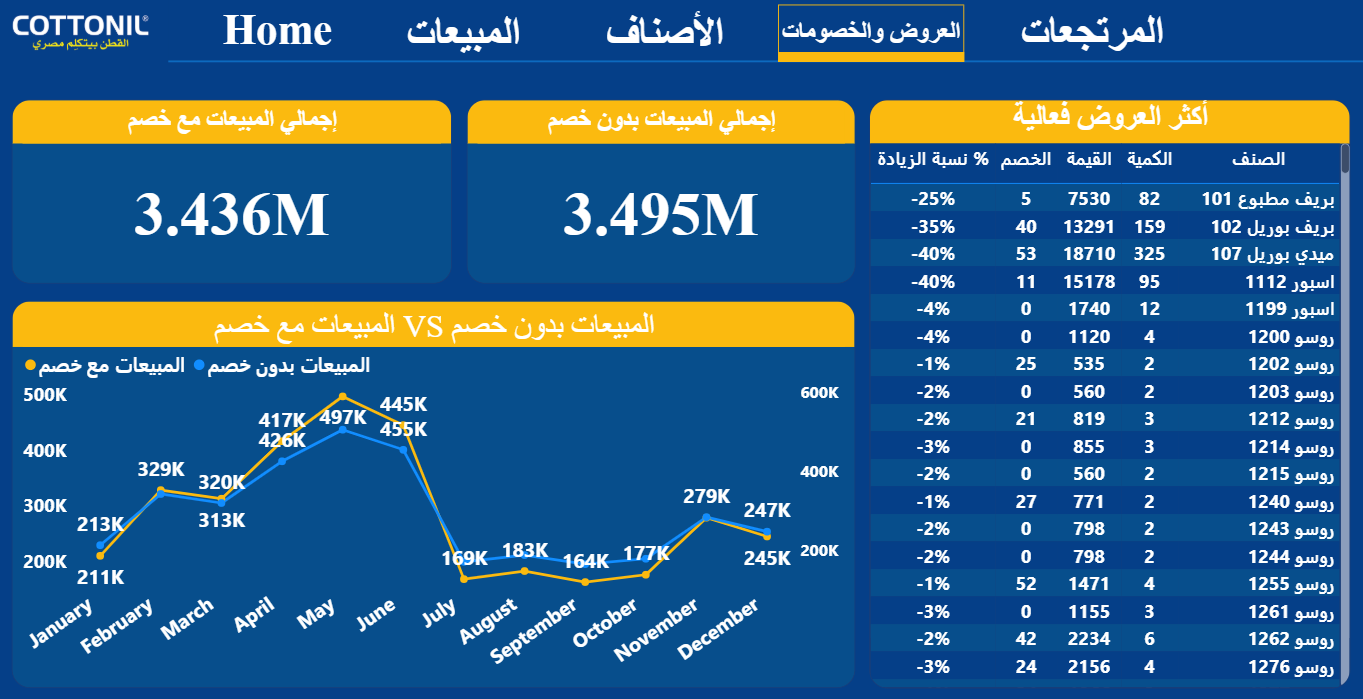

The dashboard page shown, as its layout file describes it:
{"tool":"powerbi","page":{"name":"العروض و الخصومات","canvas":[1500,800],"ordinal":3},"visuals":[{"type":"shape","box":[0,69.5,1499.7,12.3],"z":0},{"type":"card","title":"إجمالي المبيعات مع خصم","fields":{"Values":["صافي المبيعات قبل وبعد الخصم.Sales With Discount"]},"box":[20.5,117.2,479.9,200.4],"z":1000},{"type":"card","title":"إجمالي المبيعات بدون خصم","fields":{"Values":["المبيعات.Total Sales"]},"box":[516.7,117.2,424,200.4],"z":2000},{"type":"lineChart","title":"المبيعات مع خصم VS المبيعات بدون خصم","fields":{"Category":["Calendar.Month Name"],"Y2":["المبيعات.Total Sales"],"Y":["صافي المبيعات قبل وبعد الخصم.Sales With Discount"]},"box":[20.5,336.7,920.3,422.6],"z":3000},{"type":"tableEx","title":"أكثر العروض فعالية","fields":{"Values":["Sum(صافي المبيعات قبل وبعد الخصم.Lift_by Product)","Sum(صافي المبيعات قبل وبعد الخصم.خصم)","Sum(صافي المبيعات قبل وبعد الخصم.القيمة)","Sum(صافي المبيعات قبل وبعد الخصم.الكمية)","صافي المبيعات قبل وبعد الخصم.الصنف"]},"box":[955.7,117.2,524.9,642.1],"z":4000},{"type":"image","box":[0,0,190.9,81.8],"z":5000},{"type":"shape","box":[856.2,65.4,203.1,10.9],"z":6000},{"type":"actionButton","title":"المبيعات","box":[631.5,14.7,203.1,62.7],"z":7000},{"type":"actionButton","title":"المبيعات","box":[856.4,13.4,203.1,62.7],"z":8000},{"type":"actionButton","title":"المبيعات","box":[1097.8,13.4,203.1,62.7],"z":9000},{"type":"actionButton","title":"المبيعات","box":[412,14.7,203.1,62.7],"z":10000},{"type":"actionButton","title":"المبيعات","box":[208.6,9.5,203.1,62.7],"z":11000}]}

Visuals, with their boxes on the page's 1500x800 design canvas (x1, y1, x2, y2). These are canvas units, not pixel positions in the 1363x699 screenshot, which may show the page scaled, cropped or inside an application window:
shape: <bbox>0, 70, 1500, 82</bbox>
"إجمالي المبيعات مع خصم" card: <bbox>20, 117, 500, 318</bbox>
"إجمالي المبيعات بدون خصم" card: <bbox>517, 117, 941, 318</bbox>
"المبيعات مع خصم VS المبيعات بدون خصم" lineChart: <bbox>20, 337, 941, 759</bbox>
"أكثر العروض فعالية" tableEx: <bbox>956, 117, 1481, 759</bbox>
image: <bbox>0, 0, 191, 82</bbox>
shape: <bbox>856, 65, 1059, 76</bbox>
"المبيعات" actionButton: <bbox>632, 15, 835, 77</bbox>
"المبيعات" actionButton: <bbox>856, 13, 1060, 76</bbox>
"المبيعات" actionButton: <bbox>1098, 13, 1301, 76</bbox>
"المبيعات" actionButton: <bbox>412, 15, 615, 77</bbox>
"المبيعات" actionButton: <bbox>209, 10, 412, 72</bbox>
